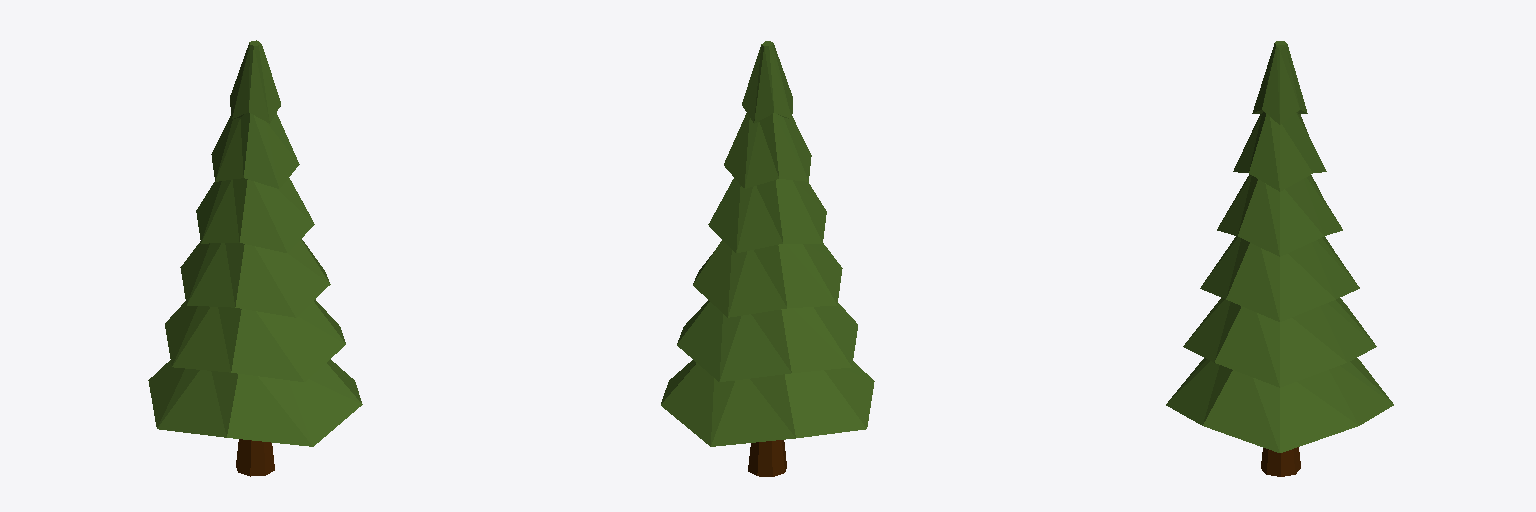
3 renders of one model, left to right at view 1: azimuth 30°, elevation 25°; view 2: azimuth 150°, elevation 25°; view 3: azimuth 270°, elevation 25°, orthographic.
Parts seen in each view (by area): view 1: Cylinder.001_Cylinder.002; view 2: Cylinder.001_Cylinder.002; view 3: Cylinder.001_Cylinder.002.
Part boxes in pixels (x1,y1,x2,y2): Cylinder.001_Cylinder.002: (148,40,362,476); Cylinder.001_Cylinder.002: (661,41,874,476); Cylinder.001_Cylinder.002: (1166,41,1393,476).
Size of the model in its own units: 3.68 by 7.54 by 3.68.
1 materials, 1 textured.